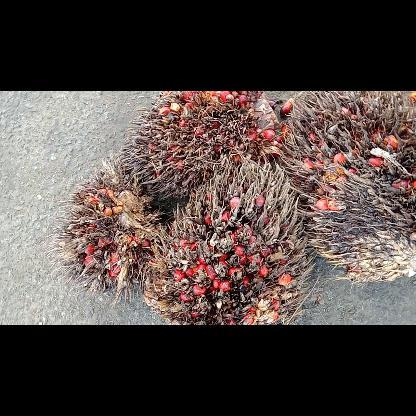Terlalu masak: (140, 155, 318, 324), (278, 90, 414, 286), (44, 156, 178, 306), (117, 91, 283, 209)
